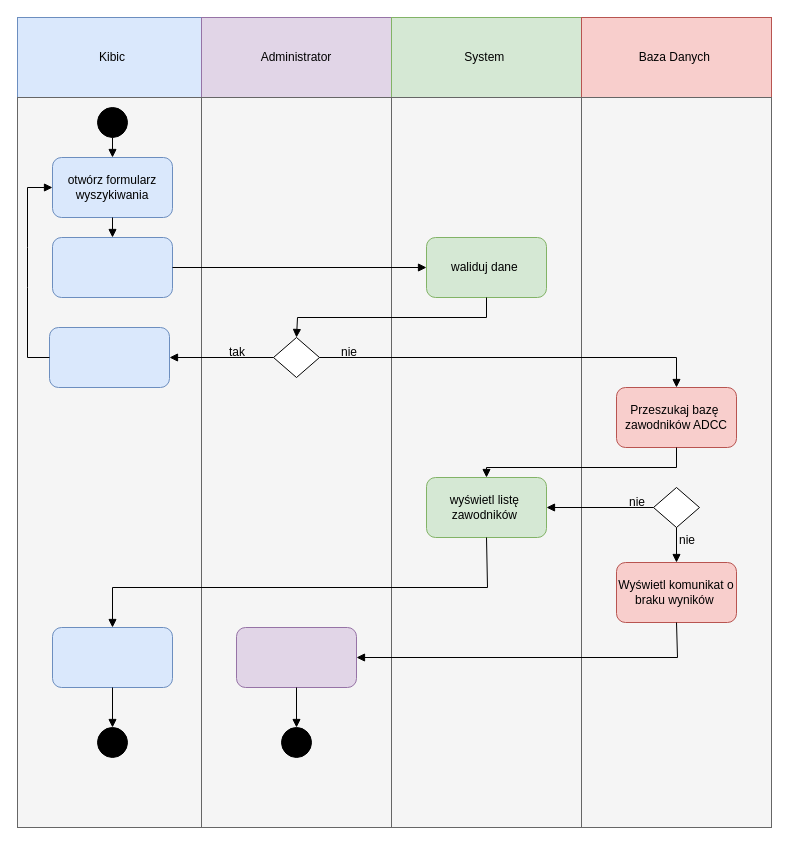
This 789x845 diagram has some shape labels left out. The box of each missing label's shape, as (x1, y1, x2, y2) in pixels:
poinformuj o braku kryteriów: (48, 326, 170, 388)
przegladaj wyniki wyszukiwania: (52, 626, 172, 688)
weryfikuj wynik dla audytu: (236, 626, 356, 688)
wprowadz kryteria (imię,klub, kategoria): (52, 236, 172, 298)
